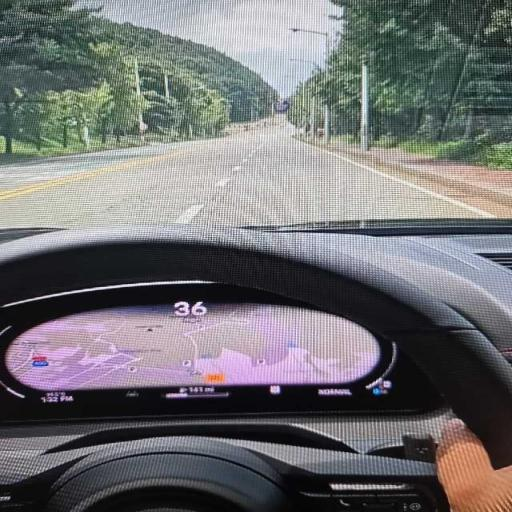car: (0, 0, 511, 511)
lane: (0, 122, 484, 227)
person: (436, 420, 511, 511)
